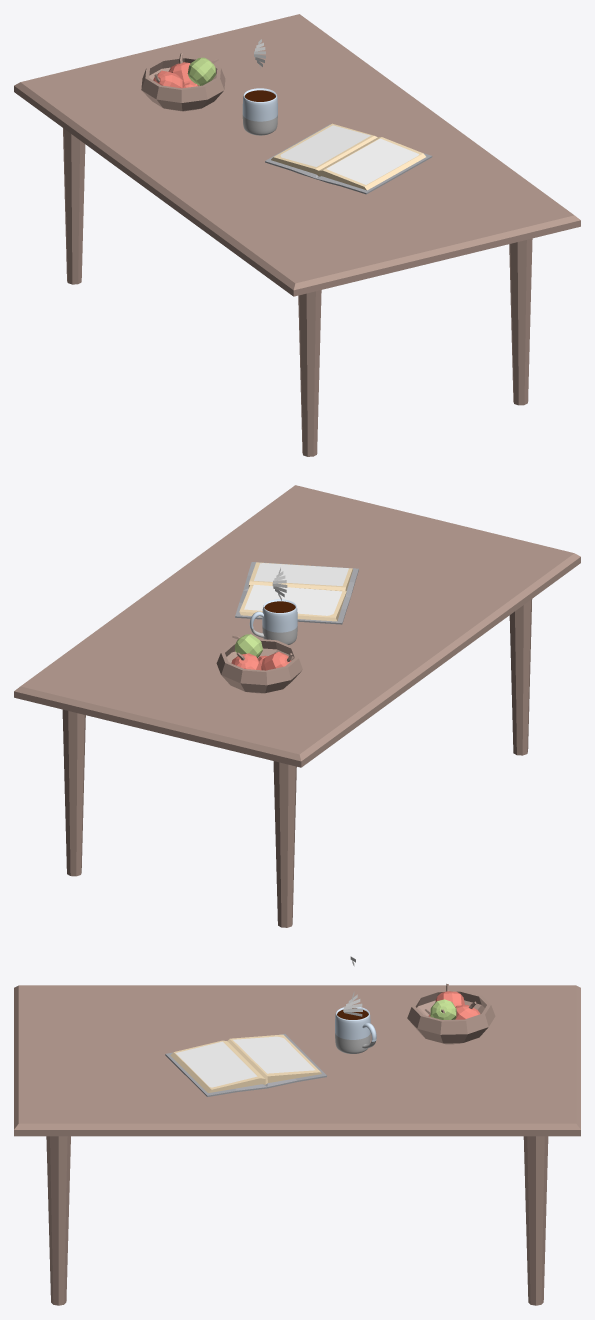
The model's file is table-draco.gltf.
The picture shows the model from 3 angles, top to bottom: view 1: azimuth 30°, elevation 25°; view 2: azimuth 150°, elevation 25°; view 3: azimuth 270°, elevation 25°; orthographic projection.
Parts seen in each view (by area): view 1: table, fruit_basket, open_book, right_page_ref, left_page_ref, mug_top; view 2: table, fruit_basket, open_book, left_page_ref, right_page_ref, mug_top; view 3: table, fruit_basket, open_book, right_page_ref, left_page_ref, mug_top, mug_bottom.
Boxes of the visible parts, x1=… form: table: x1=14, y1=14, x2=580, y2=456; fruit_basket: x1=141, y1=53, x2=225, y2=111; open_book: x1=265, y1=123, x2=432, y2=194; right_page_ref: x1=326, y1=138, x2=418, y2=184; left_page_ref: x1=280, y1=125, x2=370, y2=166; mug_top: x1=242, y1=88, x2=277, y2=121; table: x1=14, y1=485, x2=580, y2=927; fruit_basket: x1=216, y1=634, x2=302, y2=693; open_book: x1=235, y1=562, x2=358, y2=624; left_page_ref: x1=244, y1=584, x2=342, y2=615; right_page_ref: x1=254, y1=563, x2=348, y2=585; mug_top: x1=249, y1=599, x2=297, y2=632; table: x1=14, y1=985, x2=580, y2=1305; fruit_basket: x1=407, y1=983, x2=495, y2=1044; open_book: x1=165, y1=1034, x2=326, y2=1096; right_page_ref: x1=176, y1=1041, x2=257, y2=1087; left_page_ref: x1=233, y1=1036, x2=315, y2=1073; mug_top: x1=335, y1=1007, x2=376, y2=1041; mug_bottom: x1=335, y1=1033, x2=375, y2=1053.
Size of the model in its own units: 11.74 by 11.08 by 19.8.
